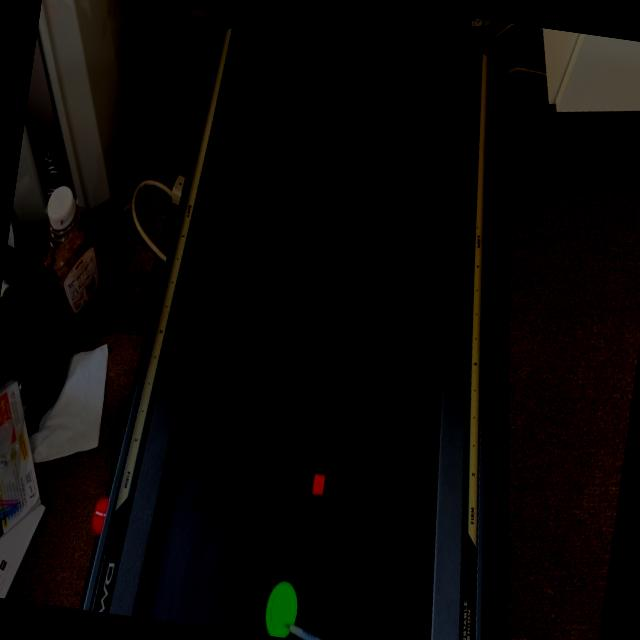Trash: (260, 558, 359, 640), (306, 452, 345, 516)
